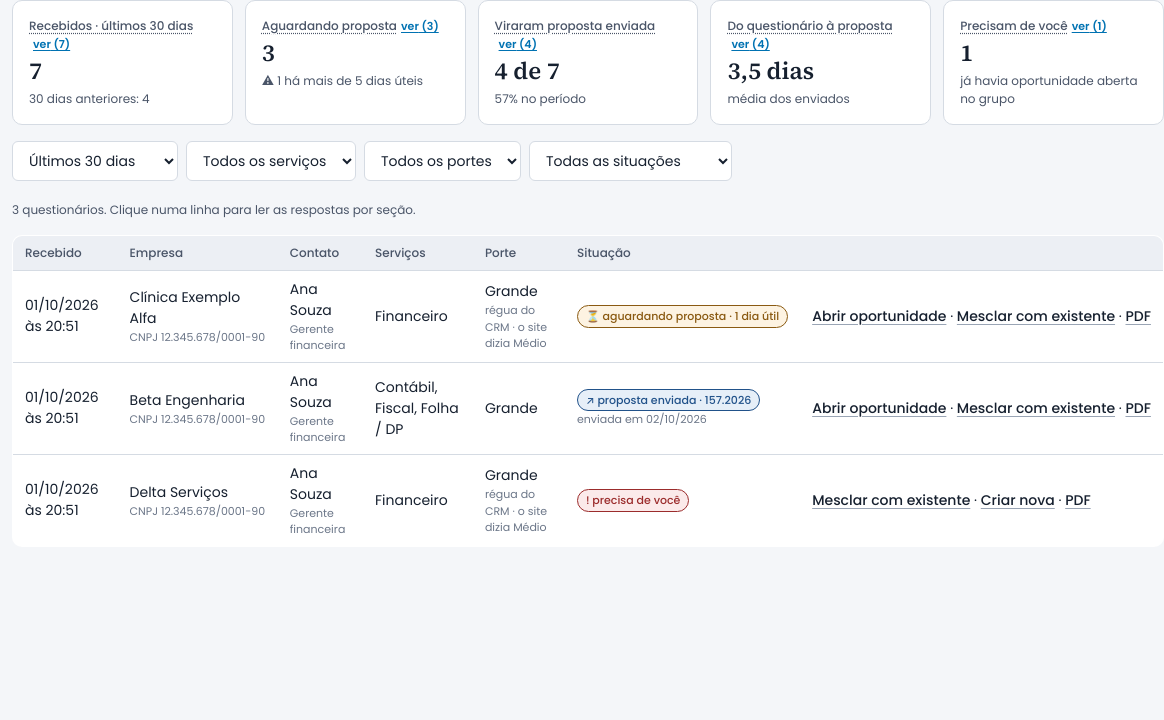
Test: Questionários › clicar na linha abre as respostas por seção
Click the text "Clínica Exemplo Alfa": point(198, 316) [118,270,278,362]
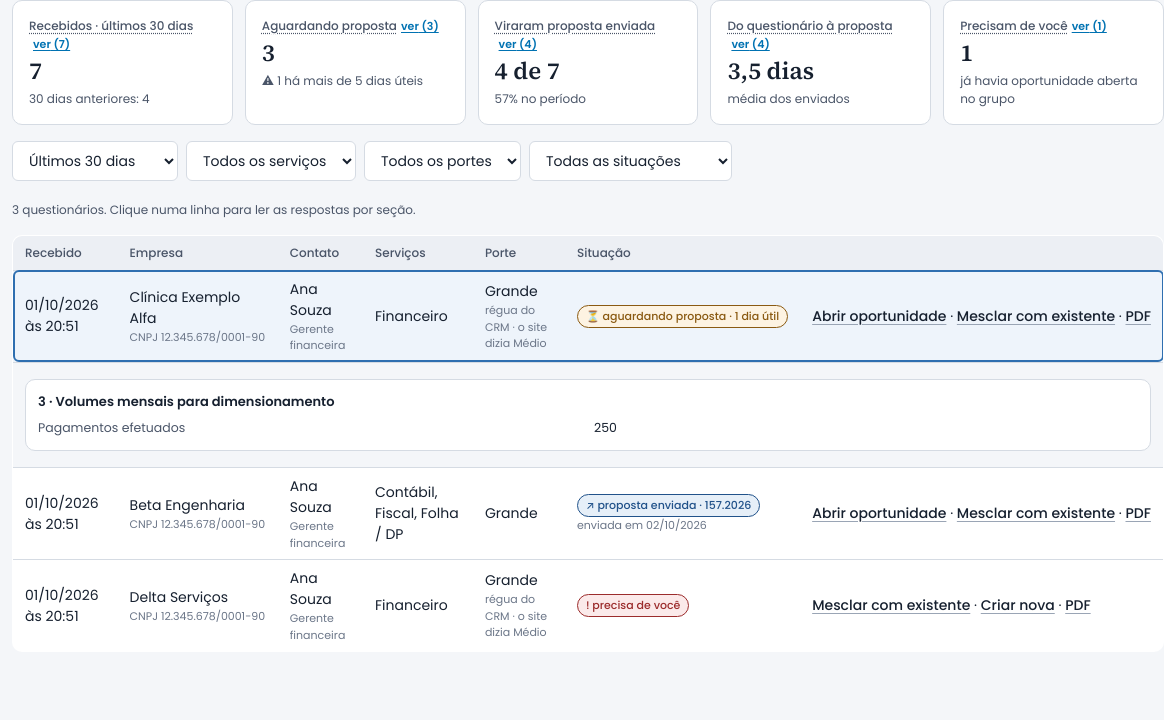
Expected: the element named "Respostas de Clínica Exemplo Alfa" shows "3 · Volumes mensais para dimensionamento", [25,371,1151,459]
